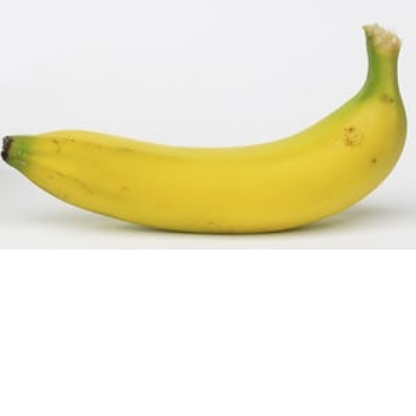chuoi: (1, 58, 410, 241)
